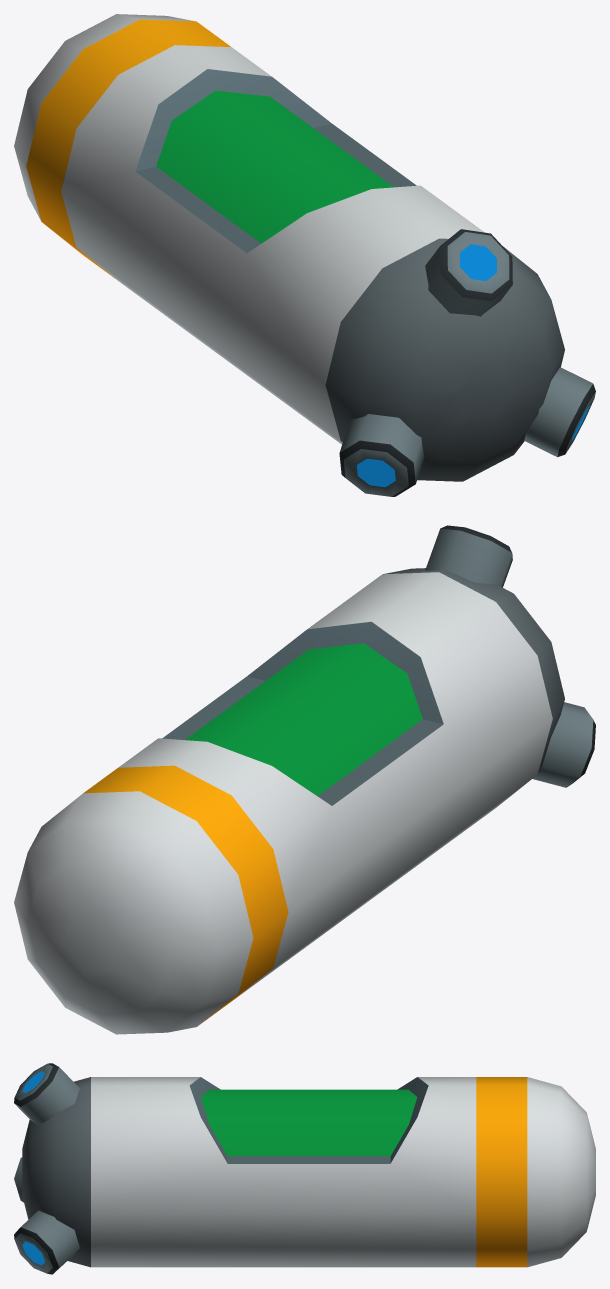
The model's file is Baloon_006.glb.
3 renders of one model, top to bottom at view 1: azimuth 30°, elevation 25°; view 2: azimuth 150°, elevation 25°; view 3: azimuth 270°, elevation 25°, orthographic. The views are drawn at different scales.
Visible parts, largest first — view 1: Baloon_006; view 2: Baloon_006; view 3: Baloon_006.
Boxes of the visible parts, box(x1,y1,x2,y2) form: Baloon_006: box(14, 14, 595, 496); Baloon_006: box(14, 525, 595, 1034); Baloon_006: box(14, 1063, 595, 1274).
Size of the model in its own units: 0.4439 by 0.4433 by 1.22.
2 materials, 2 textured.
